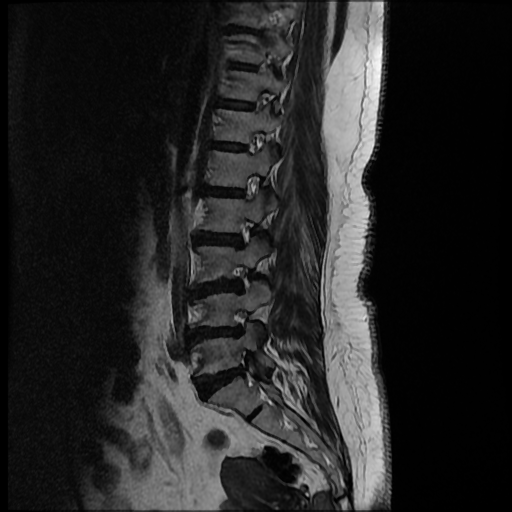RFS0: (229, 168, 271, 208), (226, 210, 262, 256), (225, 259, 262, 302)
RFS1: (225, 306, 263, 344)
